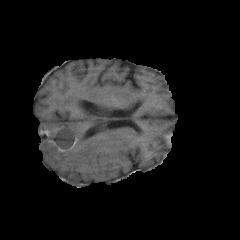glioma: (38, 96, 142, 180)
